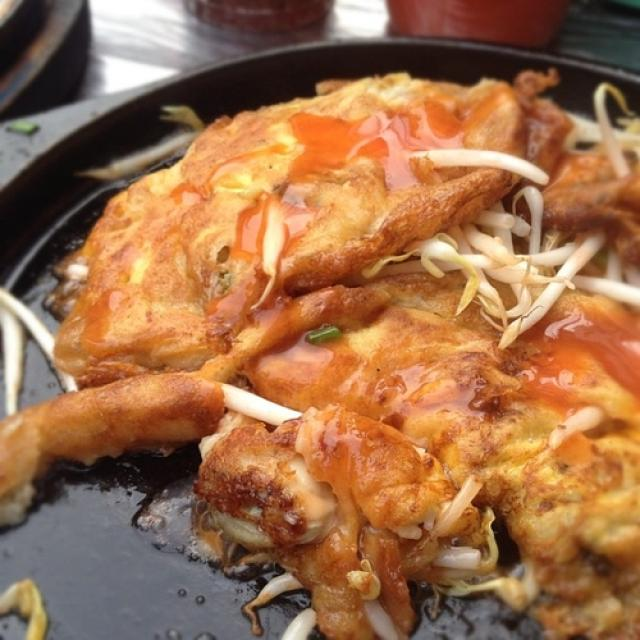炸货点心: (8, 8, 627, 626)
蛋糕甜品: (8, 8, 627, 626)
